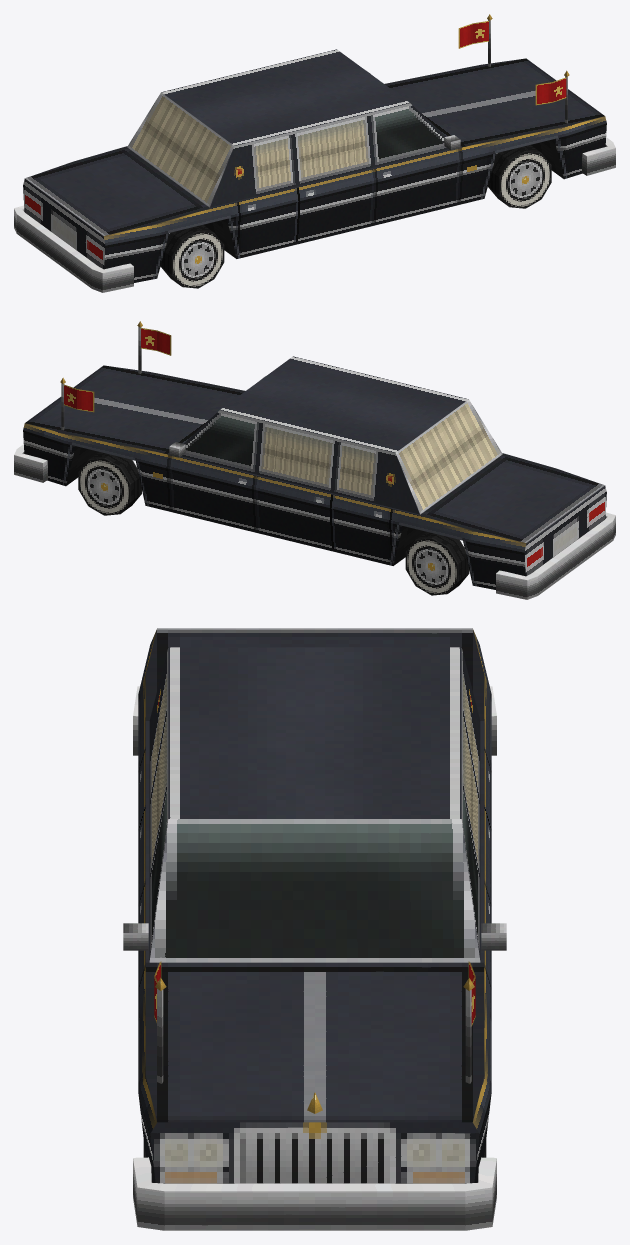
File: car_limo.glb
3 renders of one model, top to bottom at view 1: azimuth 30°, elevation 25°; view 2: azimuth 150°, elevation 25°; view 3: azimuth 270°, elevation 25°, orthographic. The views are drawn at different scales.
Visible parts, largest first — view 1: body, wheel_rr, wheel_fr; view 2: body, wheel_rl, wheel_fl; view 3: body.
Part boxes in pixels (x1=…): body: x1=14, y1=14, x2=615, y2=292; wheel_rr: x1=160, y1=225, x2=224, y2=288; wheel_fr: x1=488, y1=145, x2=551, y2=208; body: x1=14, y1=321, x2=615, y2=599; wheel_rl: x1=405, y1=532, x2=469, y2=595; wheel_fl: x1=78, y1=452, x2=141, y2=515; body: x1=123, y1=628, x2=506, y2=1230.
Size of the model in its own units: 0.016 by 0.00375 by 0.0051.
3 materials, 3 textured.
